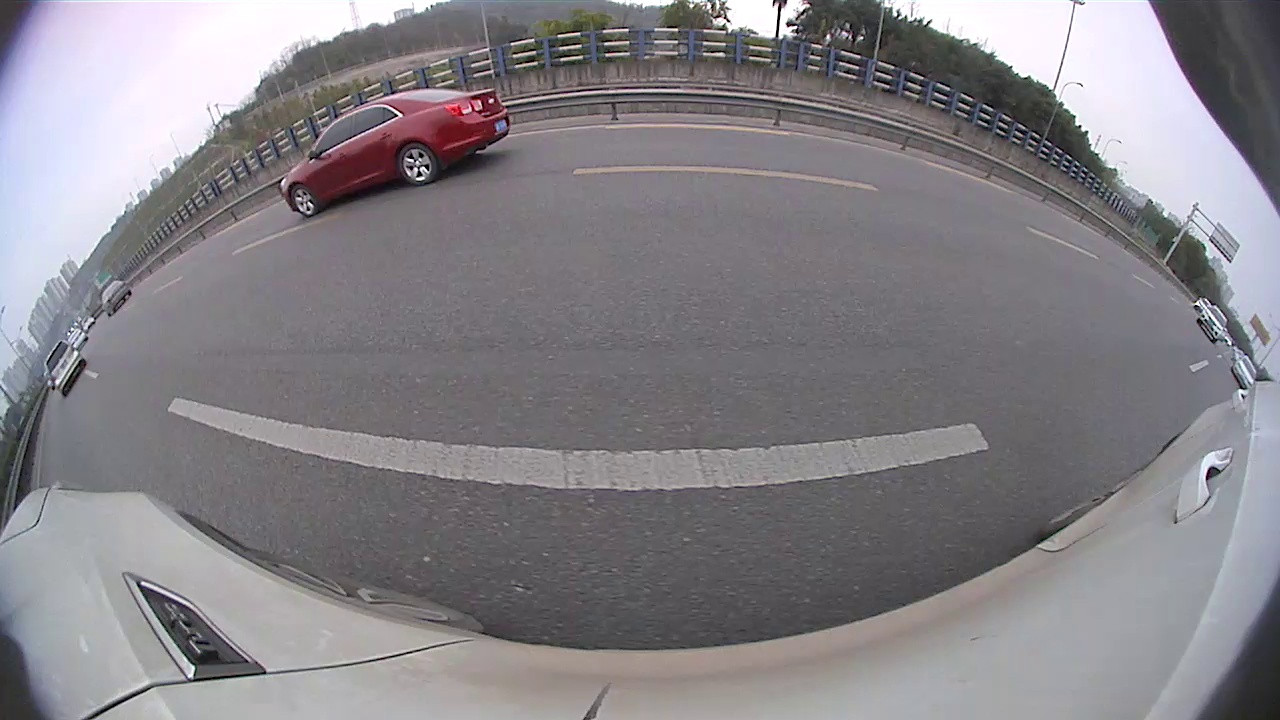car: (277, 85, 512, 219), (42, 339, 88, 398), (1195, 303, 1228, 345), (99, 279, 133, 319), (1230, 355, 1258, 390), (66, 327, 89, 349)
front: (290, 184, 318, 216)
rear: (398, 145, 436, 185)
